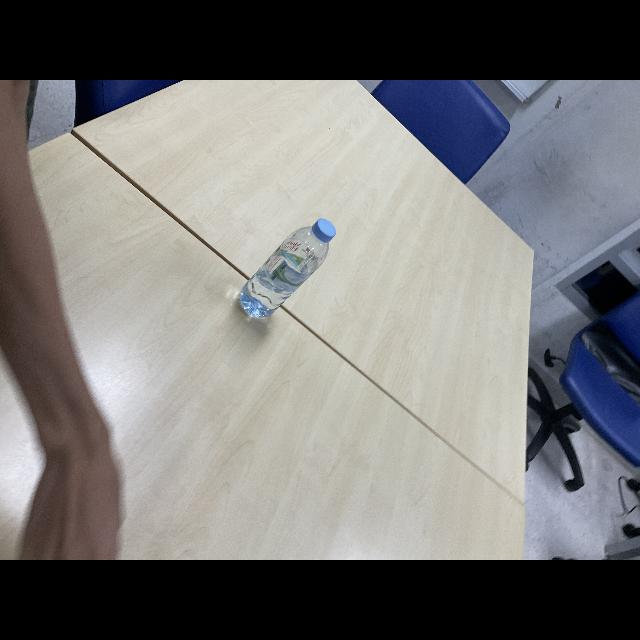plastic_bottle: (239, 218, 335, 322)
